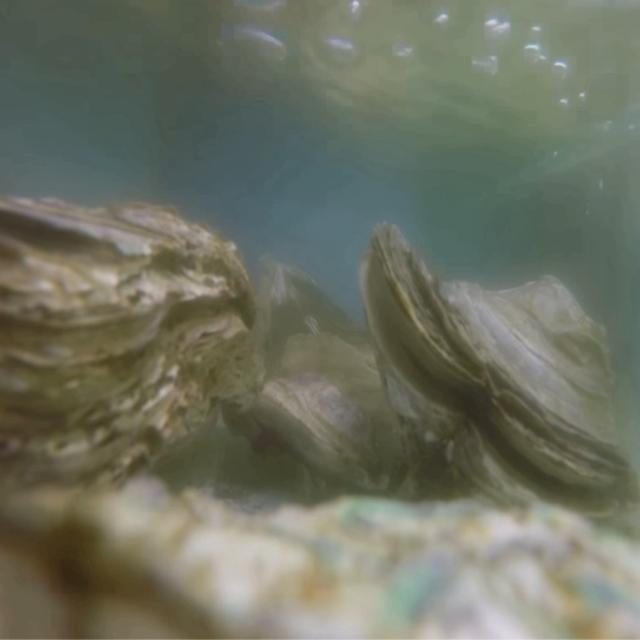Oyster-Closed: (0, 195, 258, 517)
Oyster-Indeterminate: (0, 476, 640, 640), (259, 334, 419, 506)
Oyster-Open: (358, 220, 640, 534)
